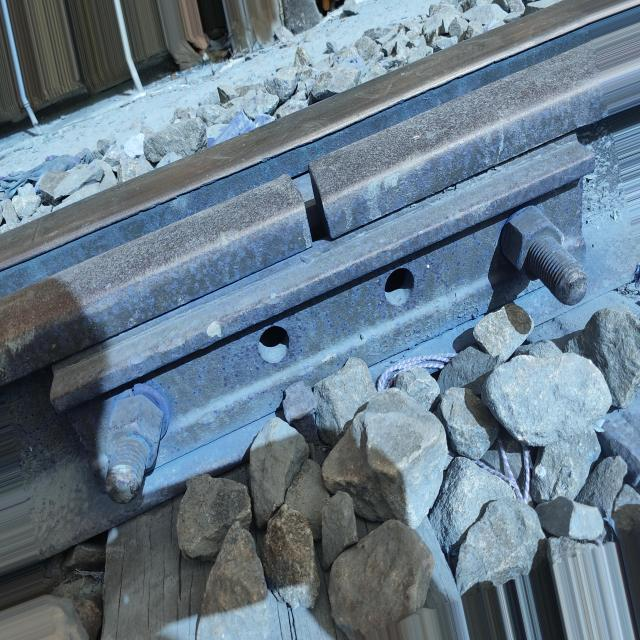Defective Joint: (44, 129, 603, 534)
